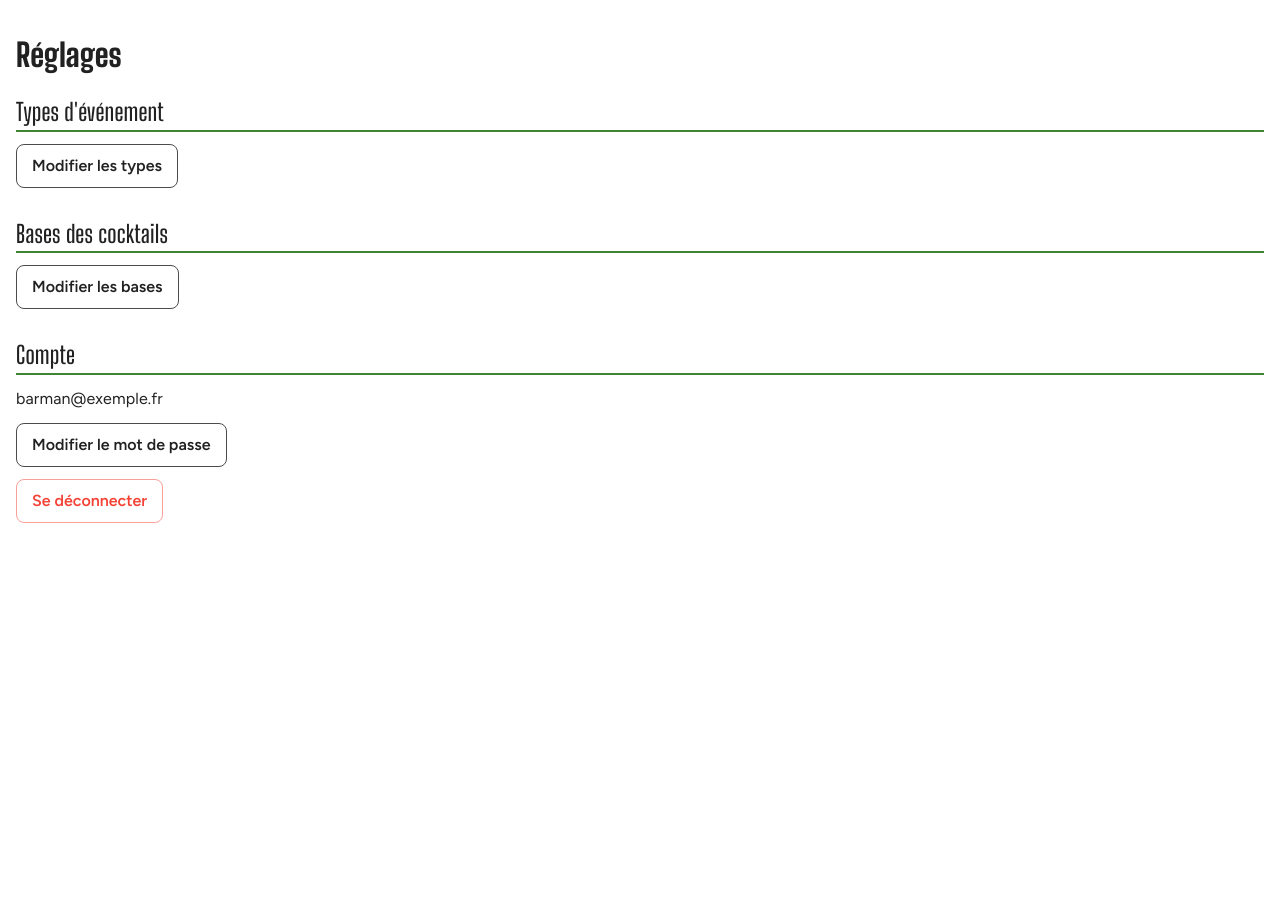
Scenario: EcranReglages › refuse un nom vide
Click the button "Modifier les types" at (97, 166), box x1=16 y1=144 x2=178 y2=188
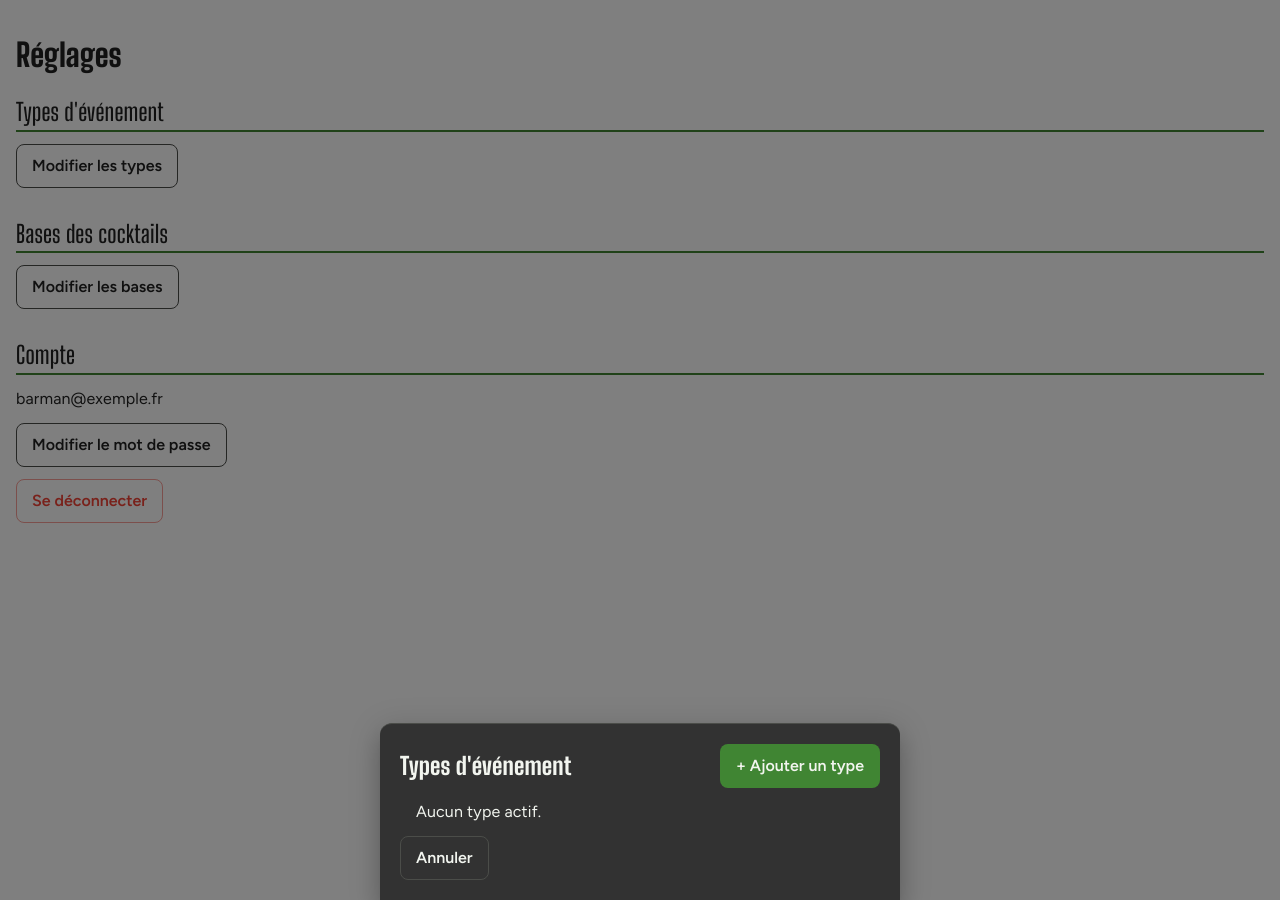
Click the button "+ Ajouter un type" at (800, 766), box x1=720 y1=744 x2=880 y2=788
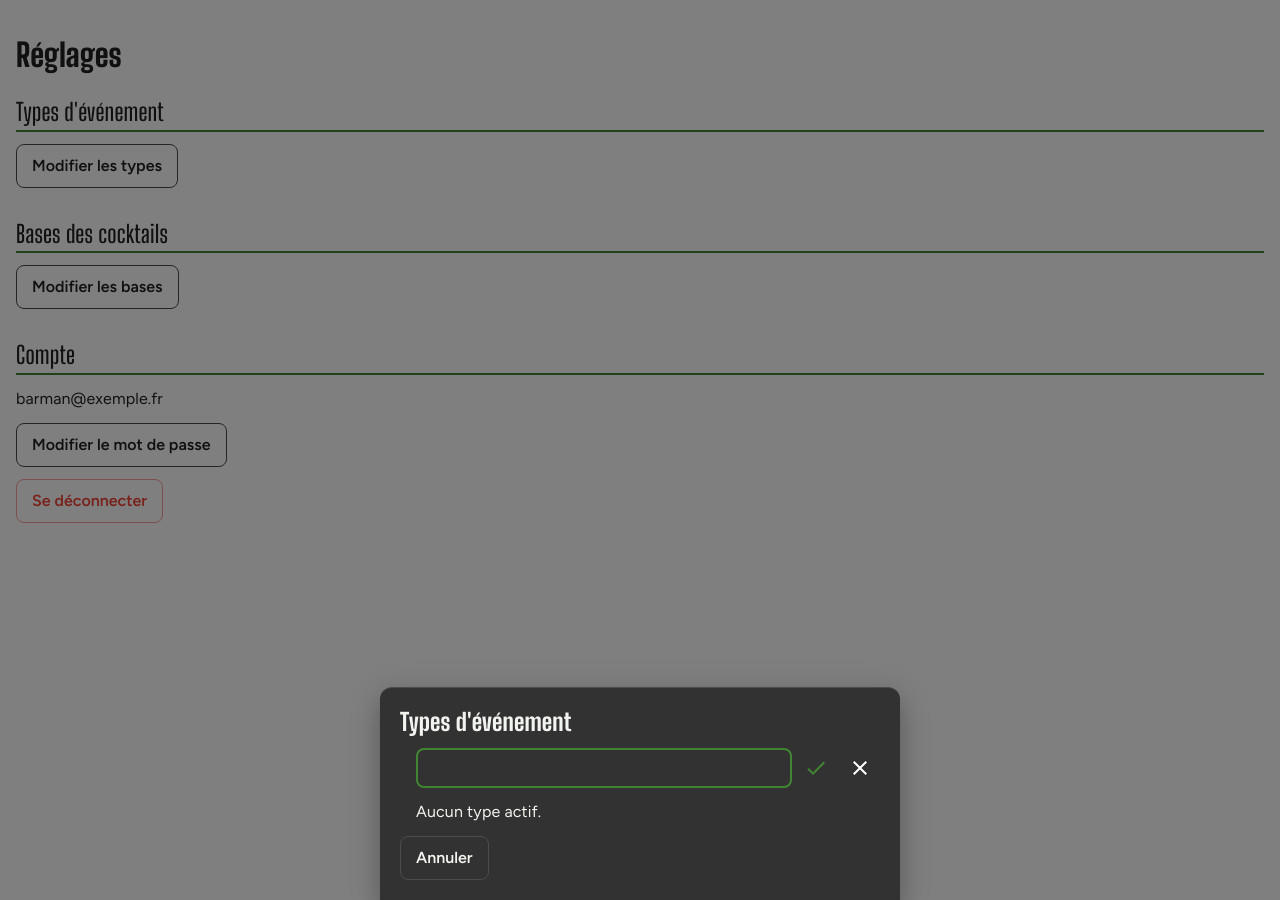
Click the button named "Valider" at (816, 768), box x1=796 y1=748 x2=836 y2=788
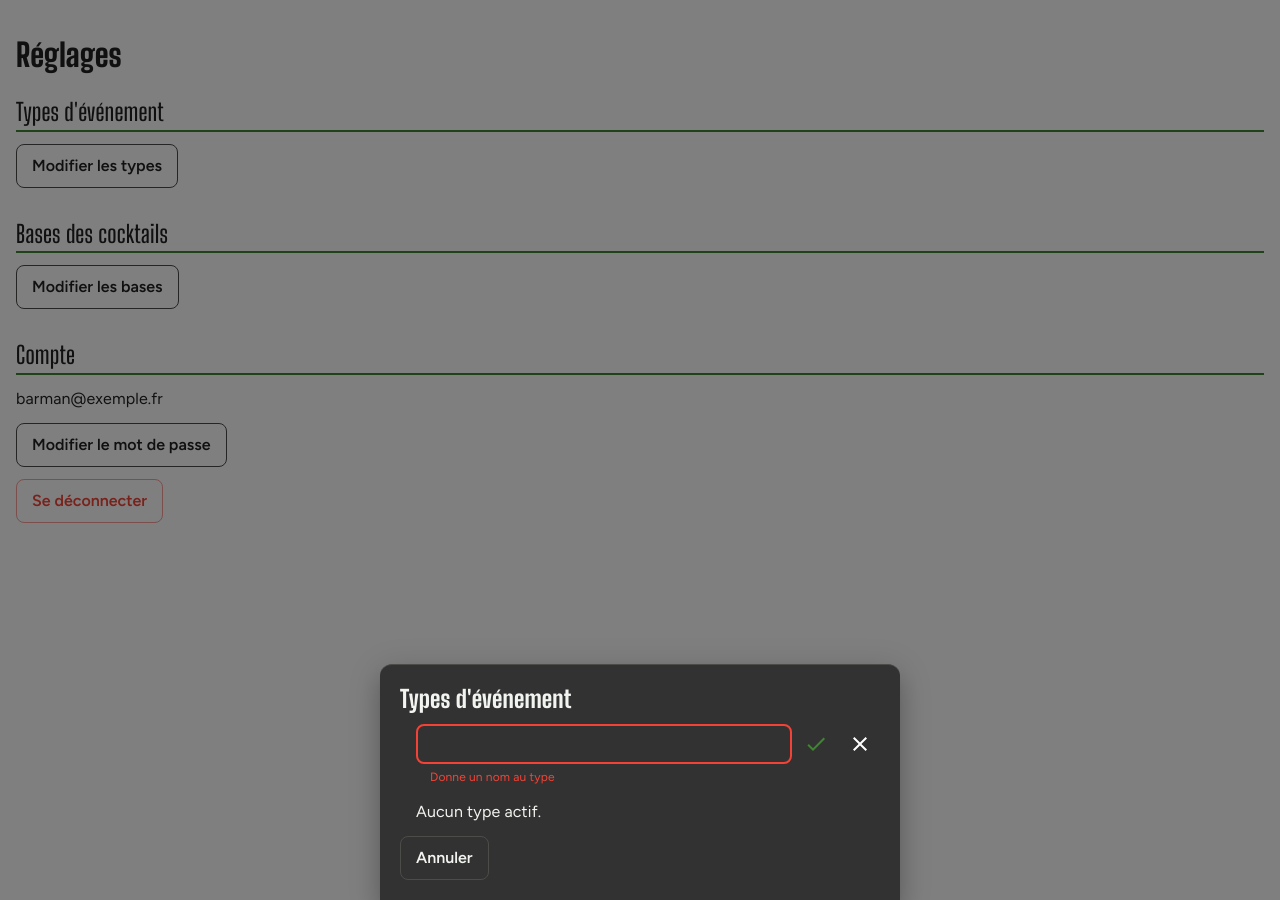
Expected: the text "Donne un nom au type" is shown, x1=430 y1=770 x2=555 y2=784
